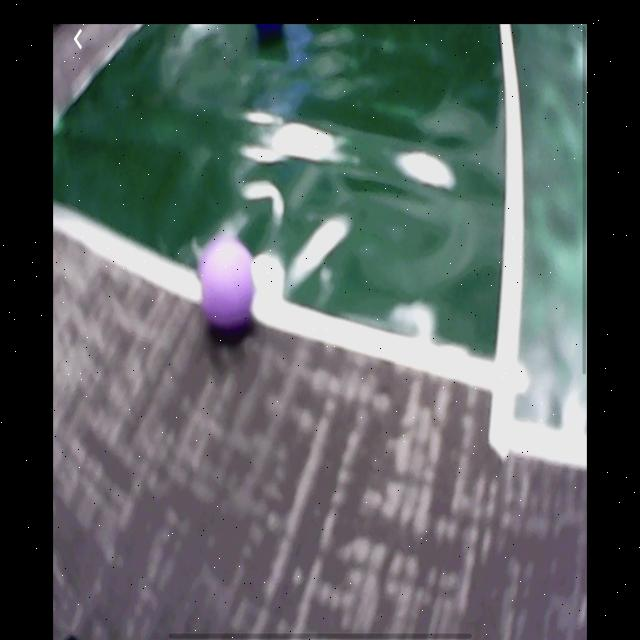ball: (201, 237, 253, 332), (254, 26, 288, 40)
